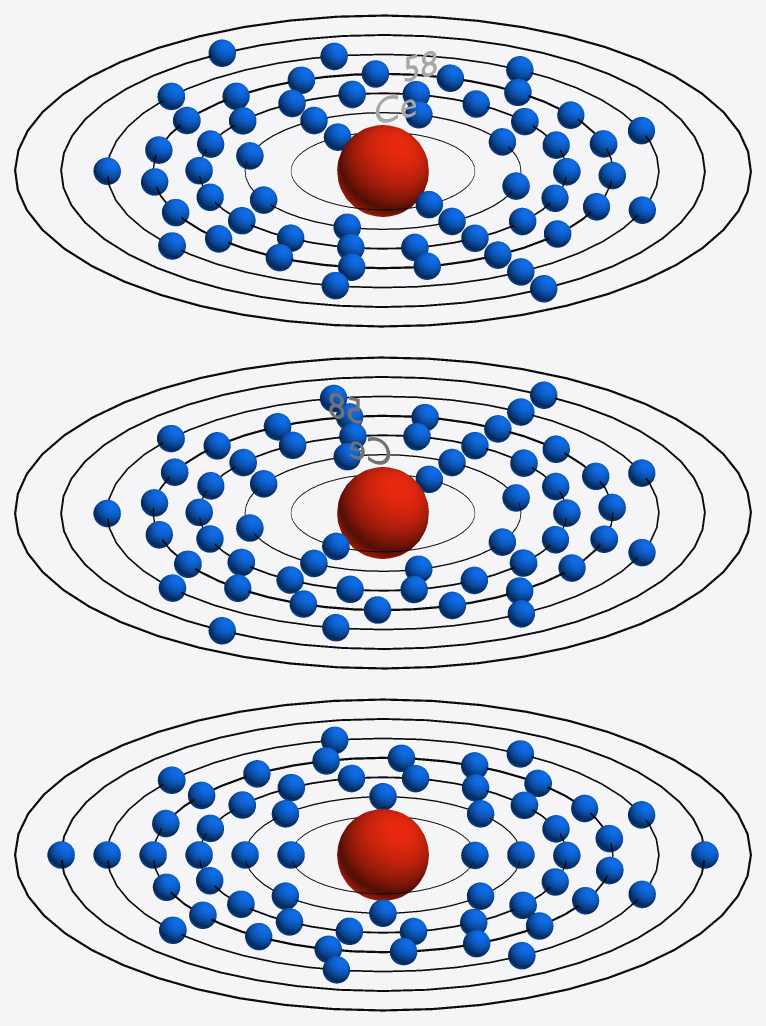
3 views of the same model, one above another, from view 1: azimuth 30°, elevation 25°; view 2: azimuth 150°, elevation 25°; view 3: azimuth 270°, elevation 25° (orthographic).
Visible parts, largest first — view 1: Ce4, Ce3, Proton, Ce5, n7, Ce2, n6, n5, n4, Ce6, Ce1, n3 (+1 smaller); view 2: Ce4, Ce3, Proton, Ce5, n7, Ce2, n6, n5, n4, Ce6, Ce1, n3 (+1 smaller); view 3: Ce4, Ce3, Proton, Ce5, Ce2, n7, n6, n5, n4, Ce1, Ce6, n3 (+2 smaller).
Part boxes in pixels (left/top/right/bottom): Ce4: left=141, top=60, right=625, bottom=280; Ce3: left=185, top=80, right=580, bottom=261; Proton: left=337, top=125, right=428, bottom=216; Ce5: left=93, top=42, right=655, bottom=299; n7: left=14, top=14, right=751, bottom=327; Ce2: left=236, top=101, right=529, bottom=238; n6: left=60, top=34, right=705, bottom=307; n5: left=107, top=53, right=659, bottom=288; n4: left=153, top=73, right=612, bottom=269; Ce6: left=208, top=39, right=557, bottom=302; Ce1: left=323, top=123, right=442, bottom=218; n3: left=199, top=92, right=566, bottom=249; Ce4: left=140, top=403, right=625, bottom=623; Ce3: left=185, top=422, right=580, bottom=603; Proton: left=337, top=467, right=428, bottom=558; Ce5: left=93, top=384, right=655, bottom=641; n7: left=14, top=356, right=751, bottom=669; Ce2: left=236, top=443, right=529, bottom=580; n6: left=60, top=376, right=705, bottom=649; n5: left=107, top=395, right=659, bottom=630; n4: left=152, top=414, right=613, bottom=610; Ce6: left=208, top=381, right=557, bottom=644; Ce1: left=322, top=465, right=442, bottom=560; n3: left=199, top=434, right=566, bottom=591; Ce4: left=139, top=744, right=623, bottom=965; Ce3: left=185, top=764, right=580, bottom=944; Proton: left=337, top=809, right=428, bottom=900; Ce5: left=93, top=726, right=655, bottom=983; Ce2: left=231, top=783, right=534, bottom=926; n7: left=14, top=698, right=751, bottom=1011; n6: left=61, top=718, right=704, bottom=991; n5: left=107, top=737, right=659, bottom=972; n4: left=153, top=756, right=613, bottom=953; Ce1: left=277, top=841, right=488, bottom=869; Ce6: left=47, top=841, right=718, bottom=868; n3: left=199, top=776, right=566, bottom=933.
Bounding box in the file's own units: 802 × 180 × 802.
